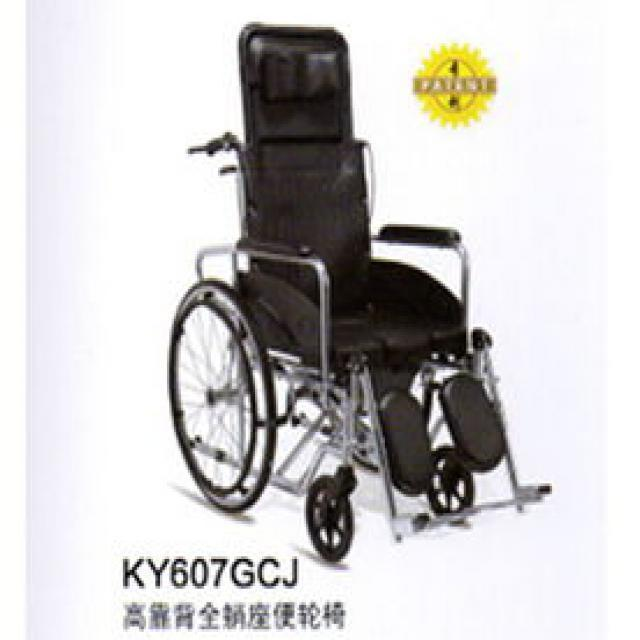wheelchairs: (170, 22, 551, 559)
